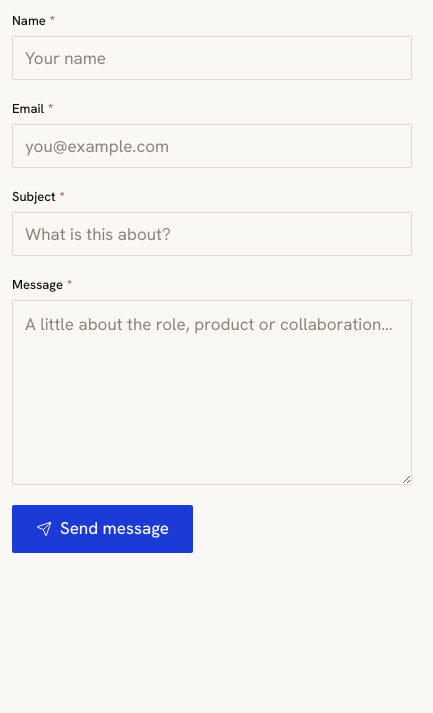
ContactForm — delivery states (§06) › surfaces the frozen error + email fallback when the request fails — never silent
Type "Ada Lovelace" into the field labelled "Name*" at (212, 58), box [12,36,412,80]
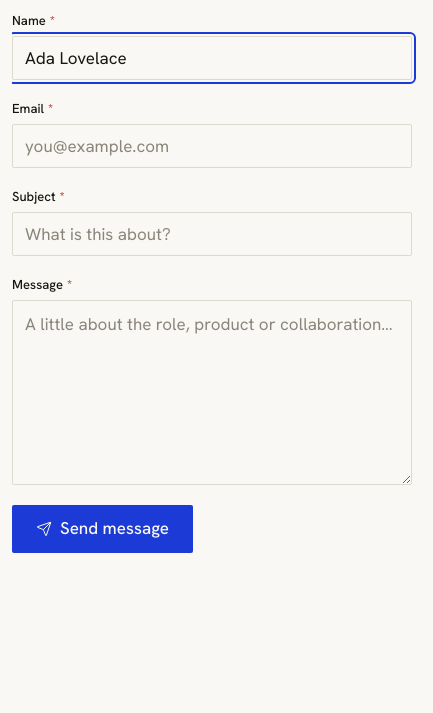
Type "ada@example.com" into the field labelled "Email*" at (212, 146), box [12,124,412,168]
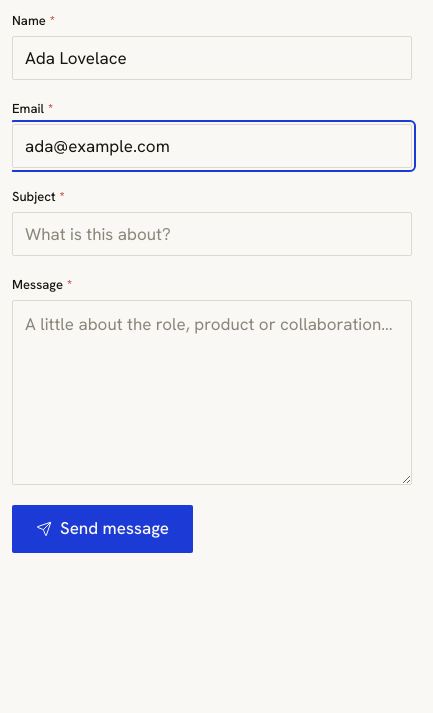
Type "A role" into the field labelled "Subject*" at (212, 234), box [12,212,412,256]
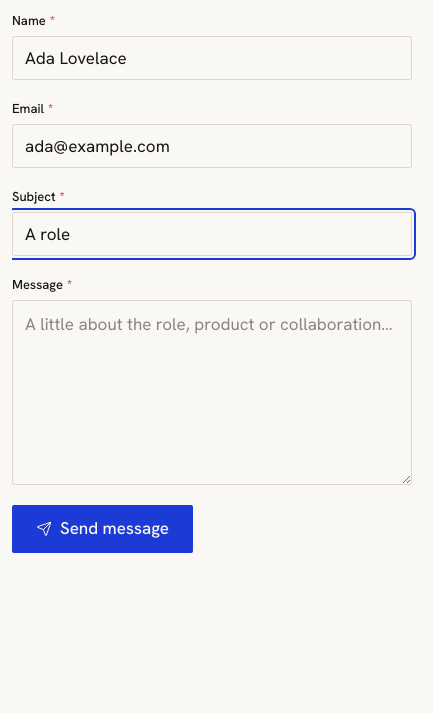
Type "Hello, I have an opportunity." into the text box labelled "Message*" at (212, 392), box [12,300,412,485]
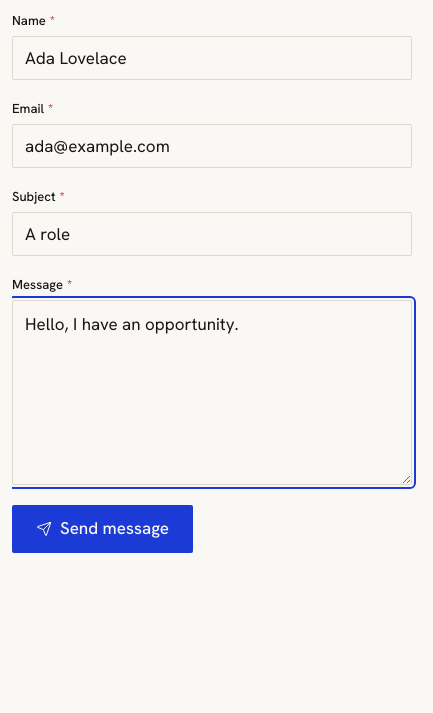
Click the button "Send message" at (102, 529), box [12,505,193,553]
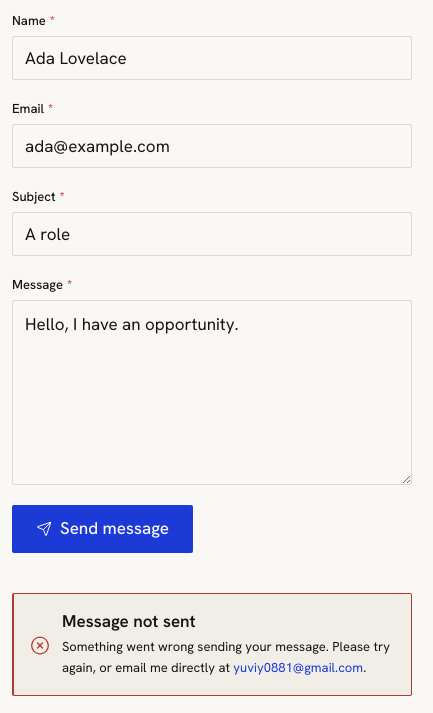
Expected: the link "yuviy0881@gmail.com" is shown, [233,659,363,676]
